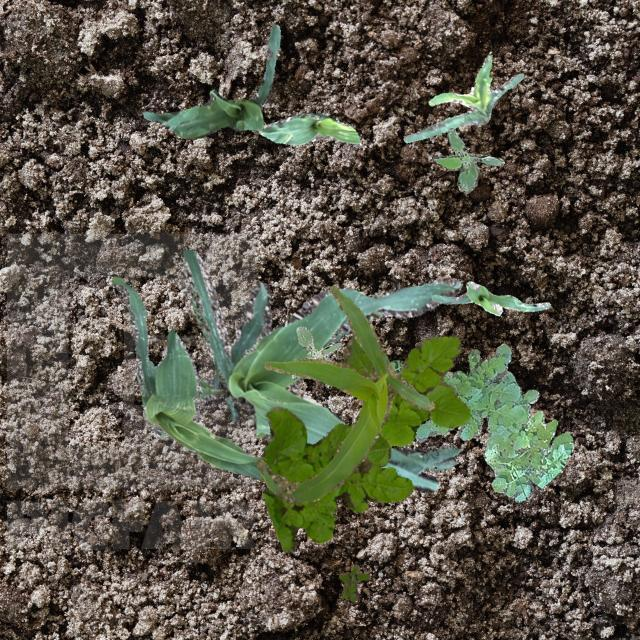crop: (152, 246, 460, 492), (256, 284, 434, 502), (110, 272, 262, 478), (142, 23, 280, 138), (402, 54, 522, 142), (430, 280, 550, 314), (258, 110, 360, 146)
weed: (261, 334, 468, 552), (388, 342, 572, 502), (432, 126, 504, 192), (296, 326, 340, 360), (338, 564, 368, 600)
